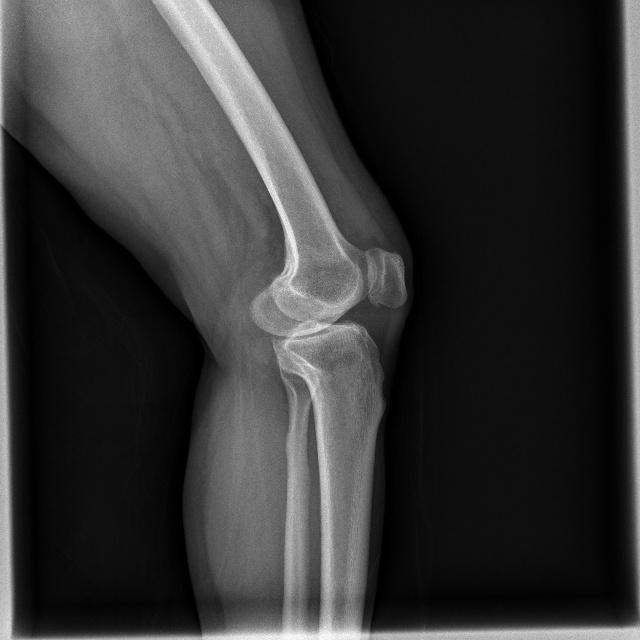Knee: (245, 244, 408, 391)
